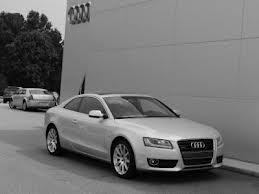car: (42, 91, 229, 188)
